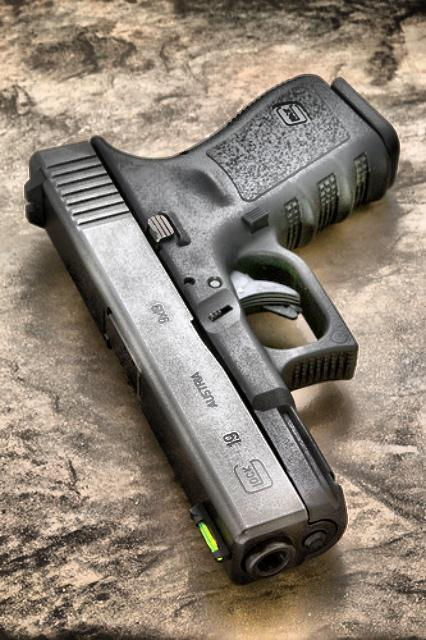pistol: (21, 73, 403, 582)
